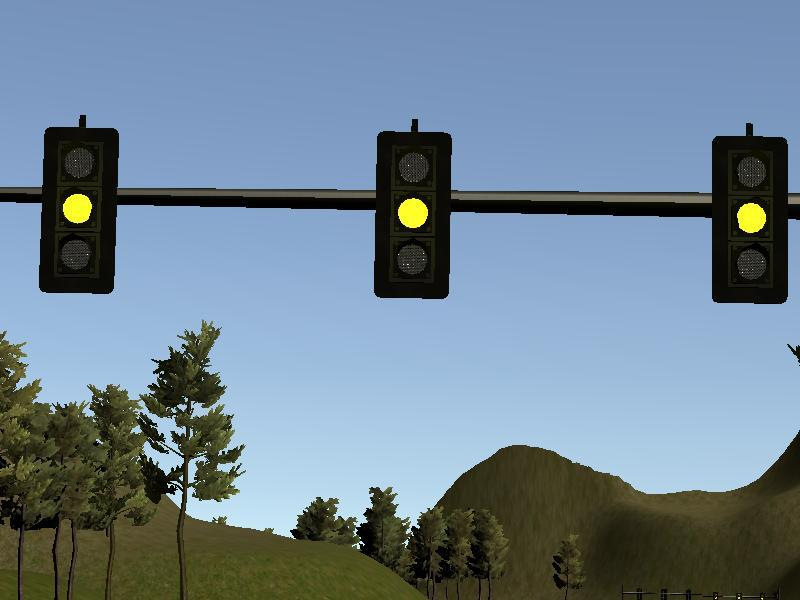Yellow: (711, 137, 789, 303), (42, 125, 117, 294), (376, 131, 450, 299)
